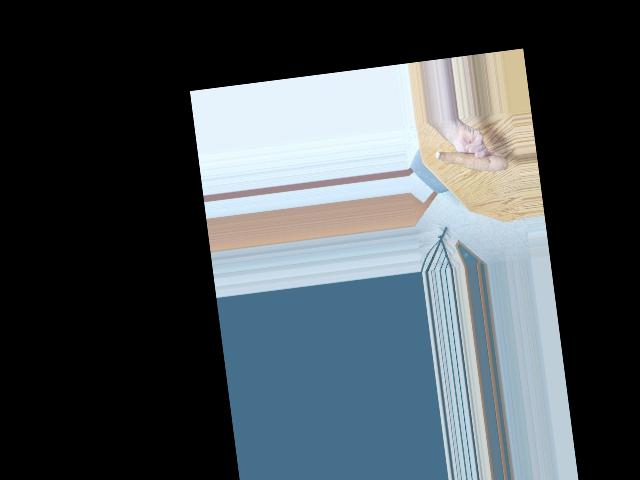sweet_potato: (433, 142, 507, 183)
